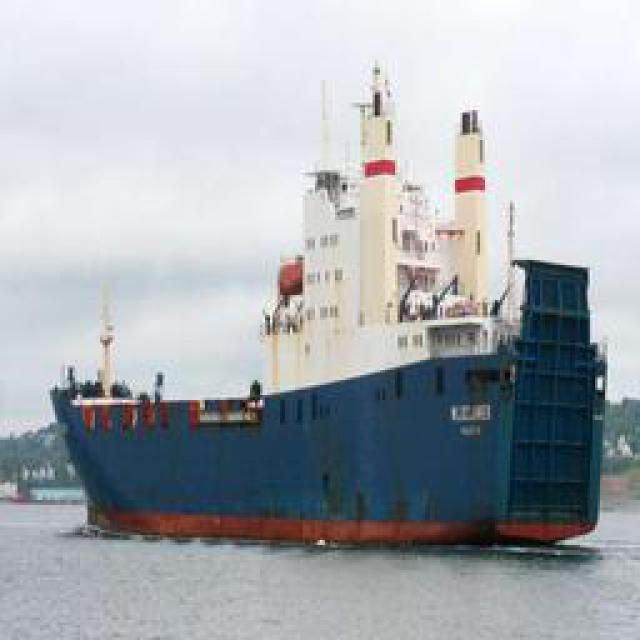Ship: (47, 95, 610, 548)
